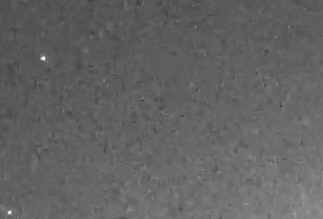Target: (9, 56, 46, 214)
